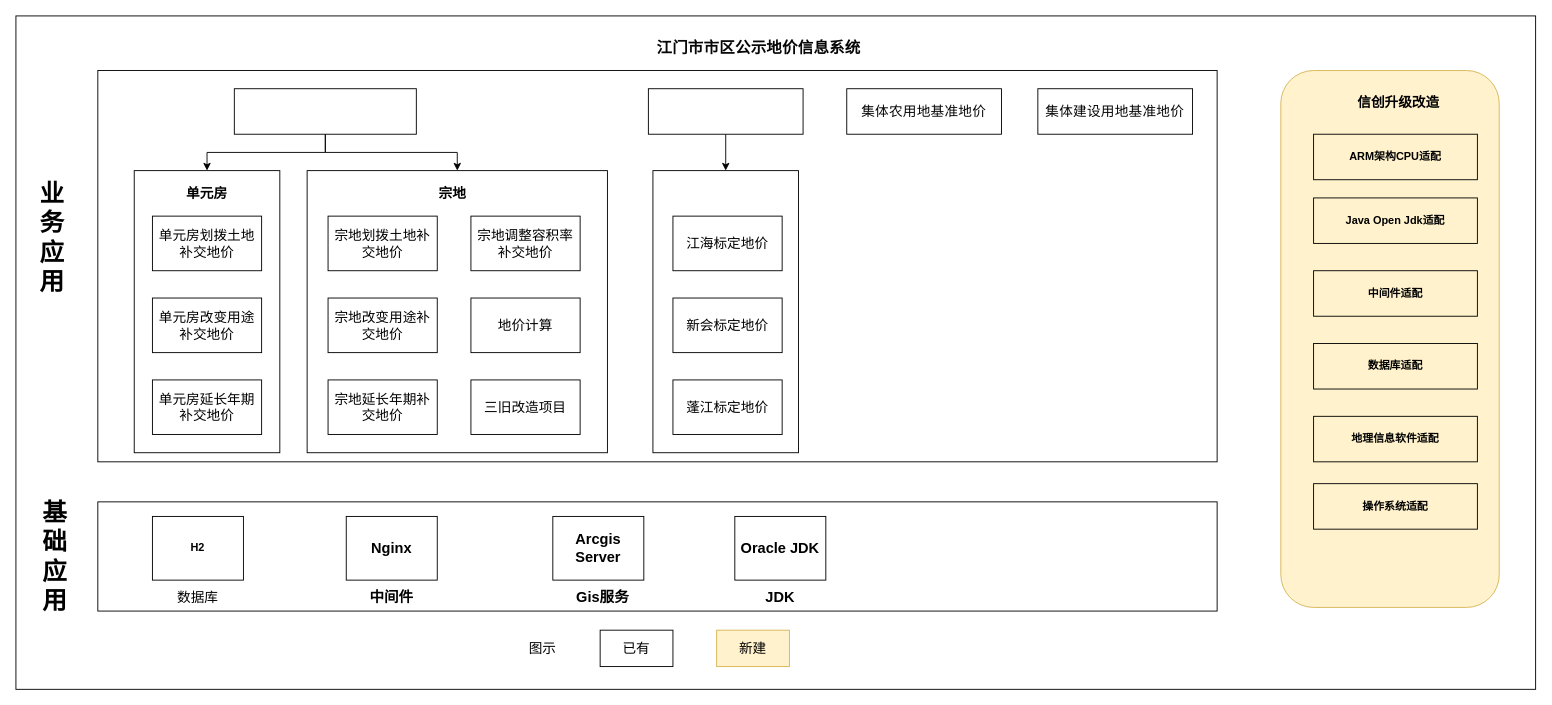
Image size: 1552x705. Some labels were removed from this diagram. Here are the shapes that lost their labels. From the top down, the centre of each, then its label:
At (324,111): "国有建设用地基准地价".
At (725,111): "标定地价".
